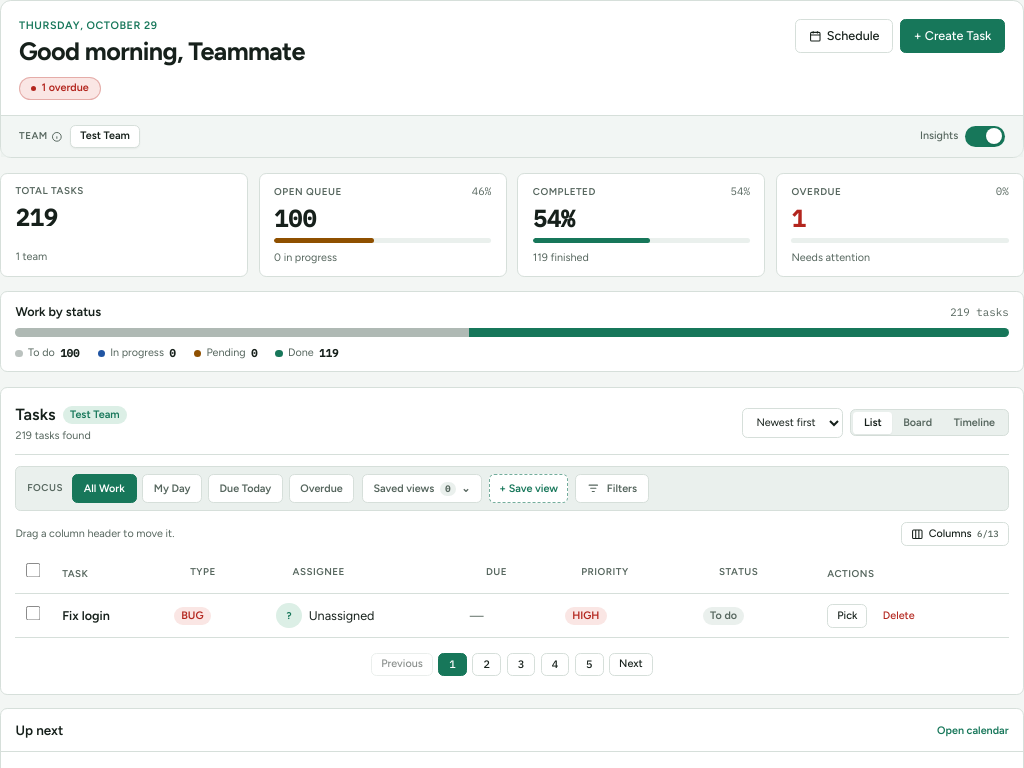
Test case: board fetch requests bounded per-column data
What coordinates should you click on to do the following:
click the button "board"
I would click on:
 (918, 423)
Its box is [892,412,943,434].
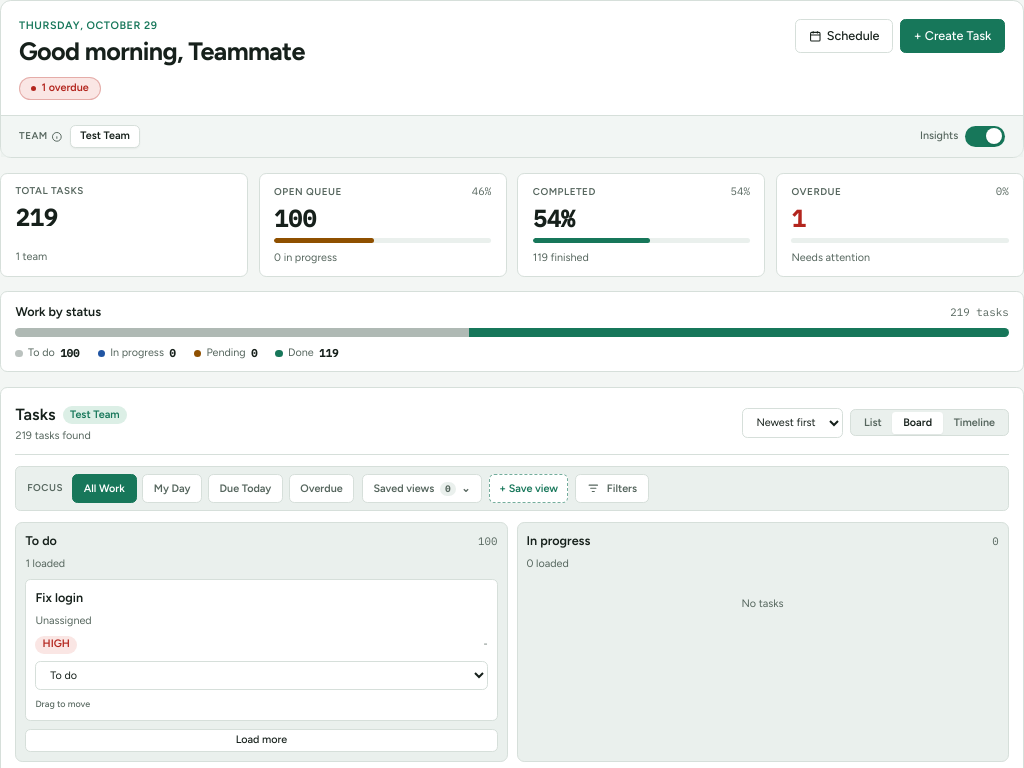
Result: the text "Load more" is shown at [25,728,498,752]
